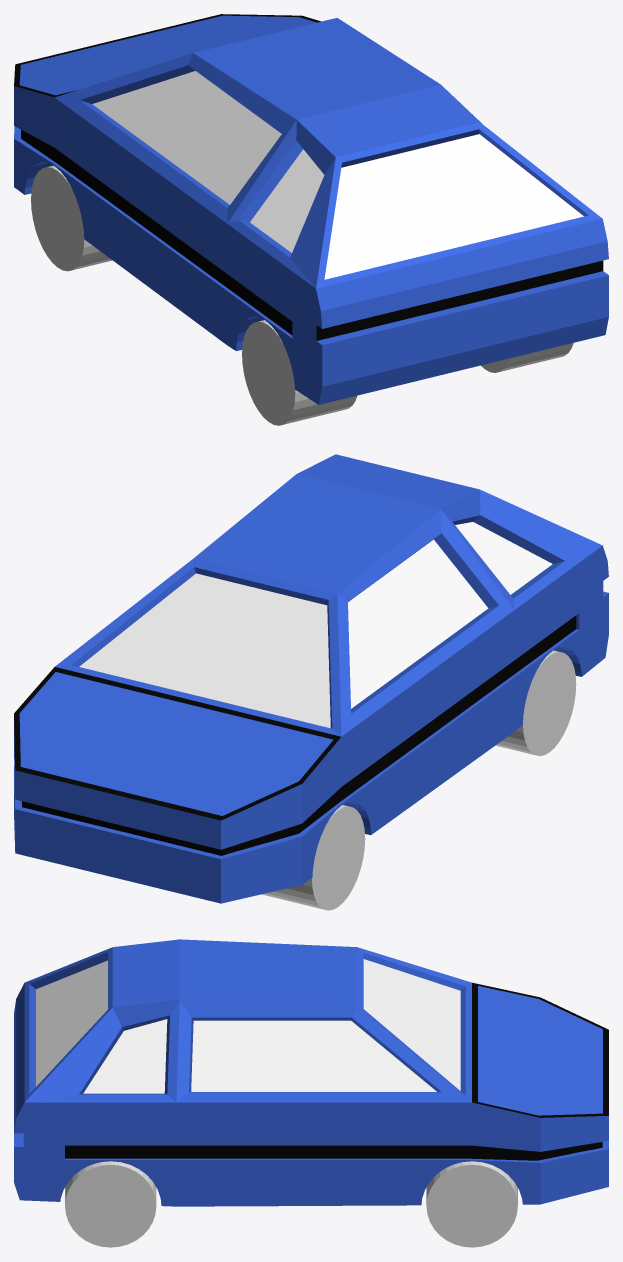
File: OUATURE.glb
3 views of the same model, one above another, from view 1: azimuth 30°, elevation 25°; view 2: azimuth 150°, elevation 25°; view 3: azimuth 270°, elevation 25° (orthographic). The views are drawn at different scales.
Parts seen in each view (by area): view 1: Cube, Cylinder, Cylinder.001, Cylinder.002; view 2: Cube, Cylinder.001, Cylinder; view 3: Cube, Cylinder.002, Cylinder.003.
Part boxes in pixels (bbox=[...]): Cube: bbox=[14, 14, 608, 404]; Cylinder: bbox=[242, 320, 357, 425]; Cylinder.001: bbox=[31, 165, 112, 271]; Cylinder.002: bbox=[481, 343, 573, 372]; Cube: bbox=[14, 454, 608, 903]; Cylinder.001: bbox=[262, 805, 365, 910]; Cylinder: bbox=[496, 650, 576, 756]; Cube: bbox=[14, 939, 608, 1206]; Cylinder.002: bbox=[65, 1161, 156, 1247]; Cylinder.003: bbox=[426, 1161, 517, 1247].
Bounding box in the file's own units: 2.8 × 2.38 × 5.84.
